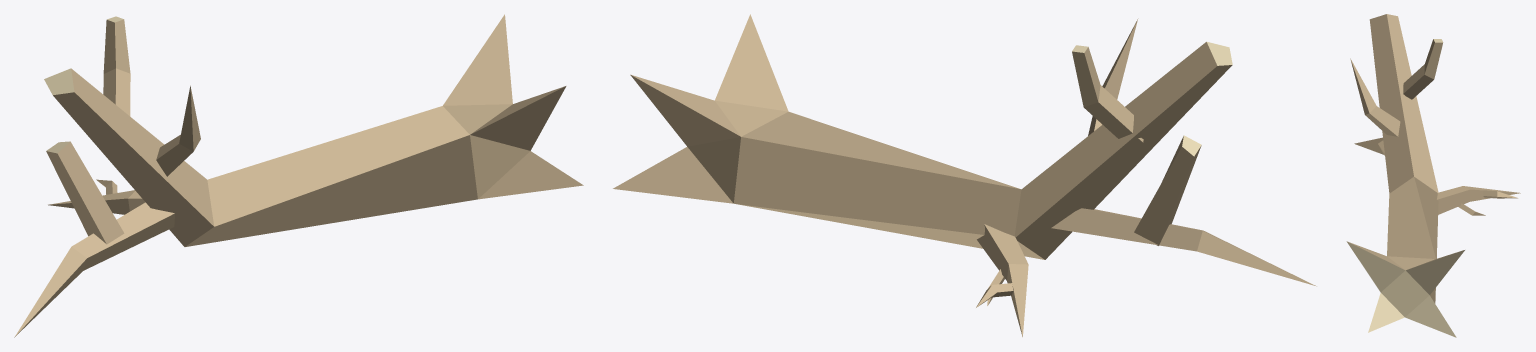
The model's file is TB_D_Env_DeadTreeD_E.FBX.
3 renders of one model, left to right at view 1: azimuth 30°, elevation 25°; view 2: azimuth 150°, elevation 25°; view 3: azimuth 270°, elevation 25°, orthographic. The views are drawn at different scales.
Visible parts, largest first — view 1: TB_D_Env_DeadTreeD_E; view 2: TB_D_Env_DeadTreeD_E; view 3: TB_D_Env_DeadTreeD_E.
Boxes of the visible parts, x1,y1,x2,y2 form: TB_D_Env_DeadTreeD_E: (14, 14, 583, 337); TB_D_Env_DeadTreeD_E: (613, 14, 1316, 337); TB_D_Env_DeadTreeD_E: (1346, 14, 1520, 337).
Size of the model in its own units: 7.09 by 2.65 by 2.67.
